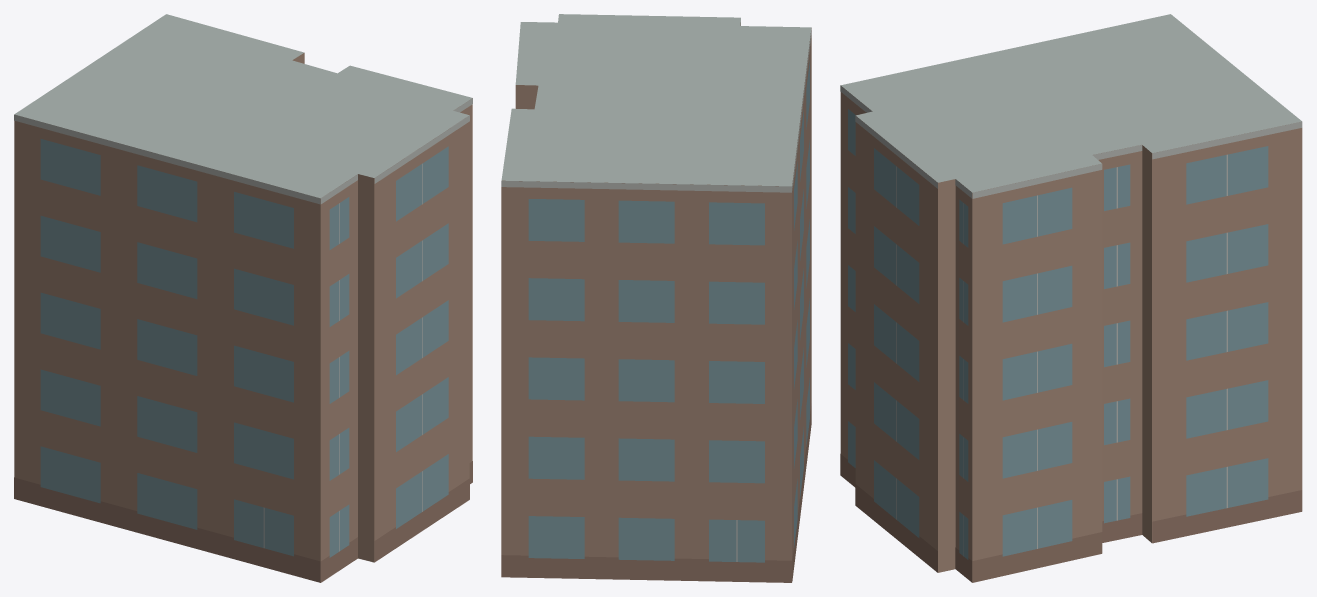
Rendered from survey-upis-32633726.glb.
The picture shows the model from 3 angles, left to right: view 1: azimuth 30°, elevation 25°; view 2: azimuth 150°, elevation 25°; view 3: azimuth 270°, elevation 25°; orthographic projection. The views are drawn at different scales.
Parts seen in each view (by area): view 1: survey-upis-32633726.tmp; view 2: survey-upis-32633726.tmp; view 3: survey-upis-32633726.tmp.
Part boxes in pixels (bbox=[...]): survey-upis-32633726.tmp: bbox=[14, 14, 472, 582]; survey-upis-32633726.tmp: bbox=[501, 14, 811, 582]; survey-upis-32633726.tmp: bbox=[840, 14, 1302, 582].
Bounding box in the file's own units: 14.99 × 15.25 × 16.37.
